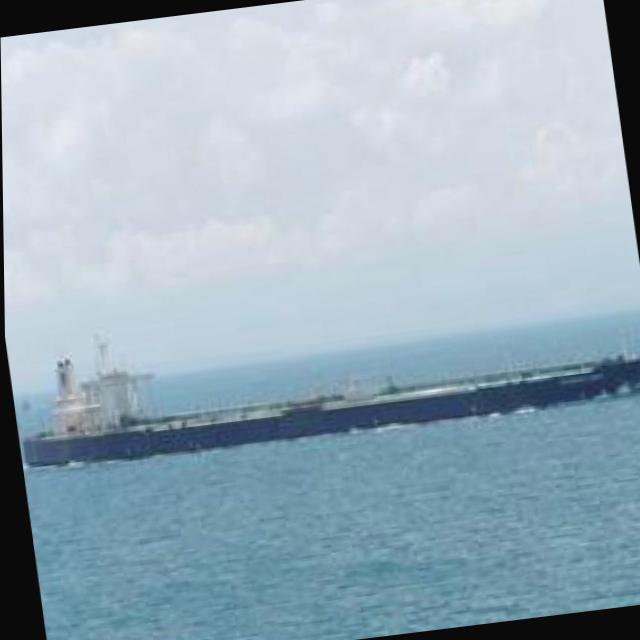ship2: (20, 353, 640, 470)
